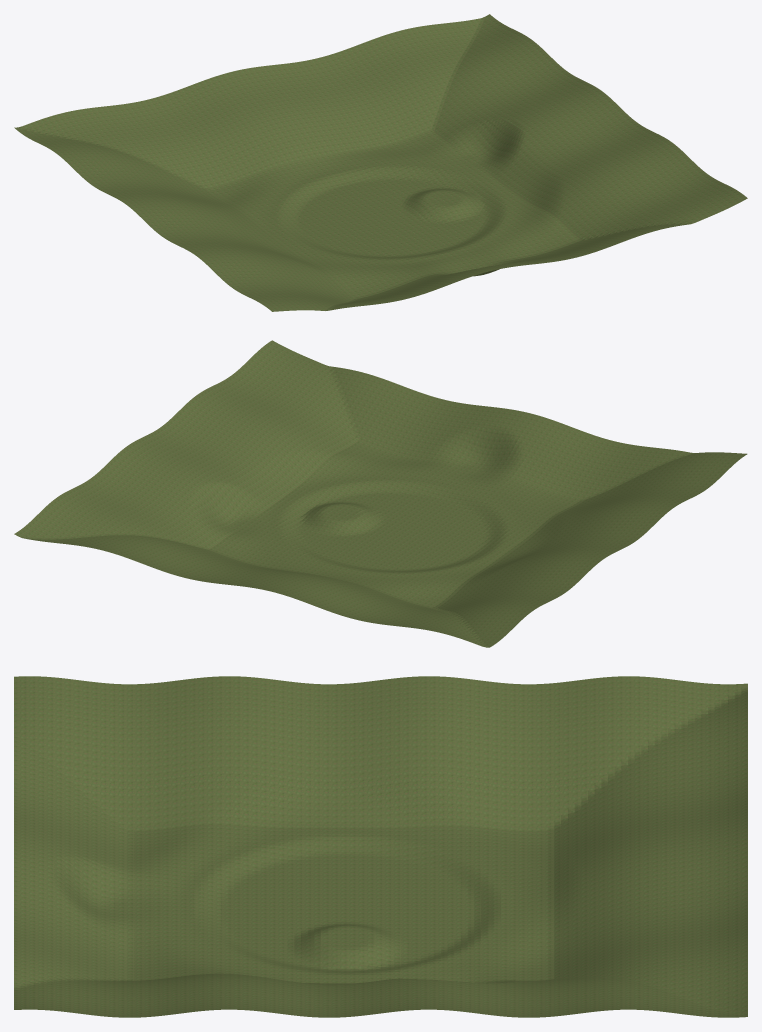
Rendered from campo-lago.glb.
3 views of the same model, one above another, from view 1: azimuth 30°, elevation 25°; view 2: azimuth 150°, elevation 25°; view 3: azimuth 270°, elevation 25° (orthographic). The views are drawn at different scales.
Visible parts, largest first — view 1: campo-lago-0; view 2: campo-lago-0; view 3: campo-lago-0.
Part boxes in pixels (x1=…): campo-lago-0: x1=14, y1=14, x2=747, y2=311; campo-lago-0: x1=14, y1=340, x2=747, y2=647; campo-lago-0: x1=14, y1=676, x2=747, y2=1017.
Bounding box in the file's own units: 351 × 35.24 × 330.
Materials: 1 (1 with a texture image).
